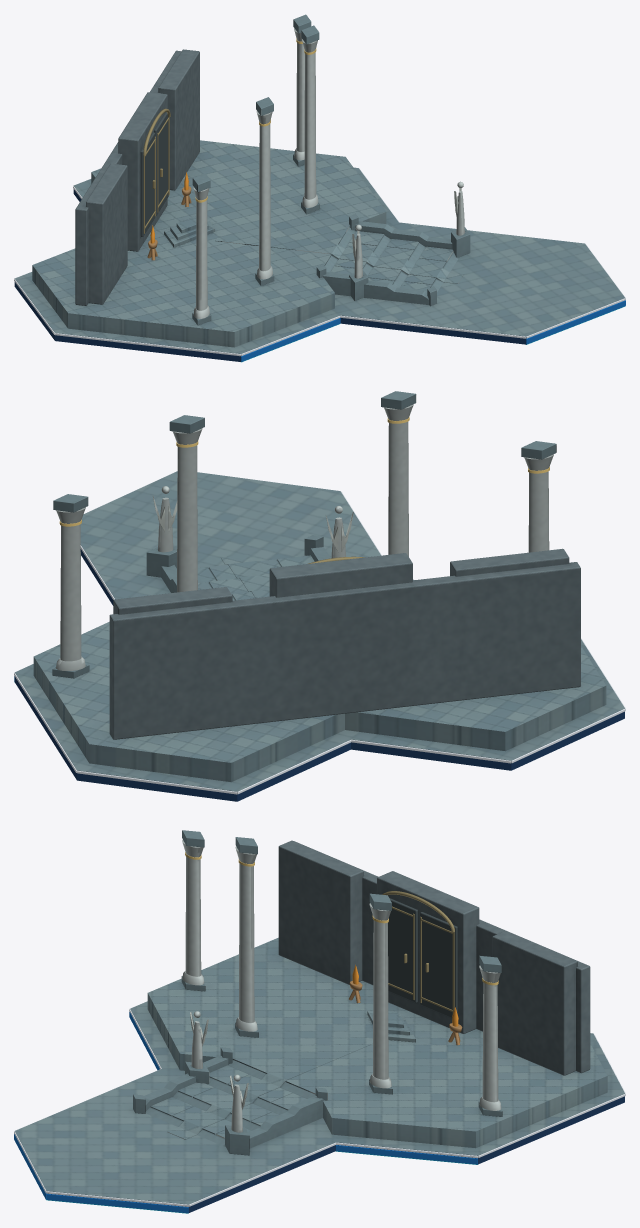
The model's file is field_cm13_01.glb.
3 views of the same model, one above another, from view 1: azimuth 30°, elevation 25°; view 2: azimuth 150°, elevation 25°; view 3: azimuth 270°, elevation 25° (orthographic). The views are drawn at different scales.
Visible parts, largest first — view 1: field_cm13_01-authored-shrine; view 2: field_cm13_01-authored-shrine; view 3: field_cm13_01-authored-shrine.
Part boxes in pixels (left/top/right/bottom): field_cm13_01-authored-shrine: left=14, top=14, right=625, bottom=362; field_cm13_01-authored-shrine: left=14, top=391, right=625, bottom=801; field_cm13_01-authored-shrine: left=14, top=830, right=625, bottom=1213.
Bounding box in the file's own units: 14.93 × 5.85 × 14.93.
Materials: 1 (1 with a texture image).
